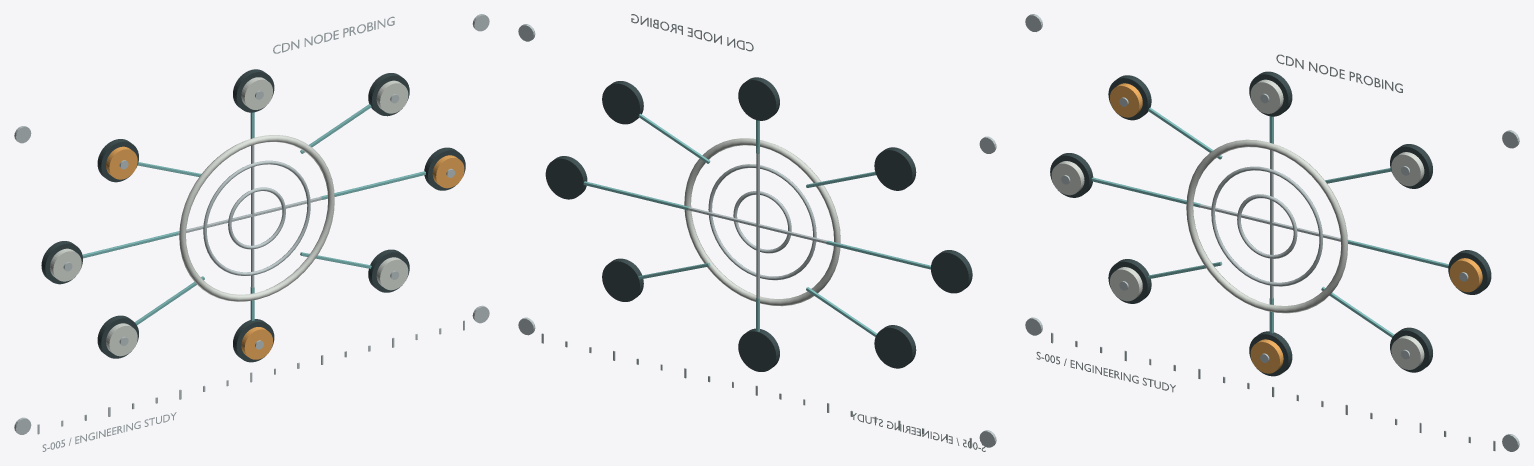
Rendered from cdn-probe.glb.
3 renders of one model, left to right at view 1: azimuth 30°, elevation 25°; view 2: azimuth 150°, elevation 25°; view 3: azimuth 330°, elevation 25°, orthographic. The views are drawn at different scales.
Parts seen in each view (by area): view 1: optical-lenses__Project_Silver.016, optical-core__Project_Graphite.014, optical-core__Project_Ceramic.014, optical-lenses__Project_Ceramic.002, optical-lenses__Project_Trace.013, optical-core__Project_Amber.015, optical-core__Project_Silver.010; view 2: optical-core__Project_Graphite.014, optical-lenses__Project_Silver.016, optical-lenses__Project_Ceramic.002, optical-lenses__Project_Trace.013; view 3: optical-lenses__Project_Silver.016, optical-core__Project_Graphite.014, optical-core__Project_Ceramic.014, optical-lenses__Project_Ceramic.002, optical-lenses__Project_Trace.013, optical-core__Project_Amber.015, optical-core__Project_Silver.010.
Boxes of the visible parts, bbox=[...] form: optical-lenses__Project_Silver.016: bbox=[14, 14, 489, 451]; optical-core__Project_Graphite.014: bbox=[41, 69, 465, 362]; optical-core__Project_Ceramic.014: bbox=[50, 77, 408, 356]; optical-lenses__Project_Ceramic.002: bbox=[179, 135, 334, 301]; optical-lenses__Project_Trace.013: bbox=[82, 104, 425, 324]; optical-core__Project_Amber.015: bbox=[106, 146, 464, 359]; optical-core__Project_Silver.010: bbox=[63, 90, 455, 349]; optical-core__Project_Graphite.014: bbox=[545, 77, 972, 371]; optical-lenses__Project_Silver.016: bbox=[518, 14, 996, 451]; optical-lenses__Project_Ceramic.002: bbox=[684, 138, 840, 306]; optical-lenses__Project_Trace.013: bbox=[583, 113, 930, 336]; optical-lenses__Project_Silver.016: bbox=[1025, 14, 1519, 451]; optical-core__Project_Graphite.014: bbox=[1050, 71, 1491, 376]; optical-core__Project_Ceramic.014: bbox=[1051, 79, 1424, 369]; optical-lenses__Project_Ceramic.002: bbox=[1186, 139, 1347, 313]; optical-lenses__Project_Trace.013: bbox=[1091, 107, 1448, 337]; optical-core__Project_Amber.015: bbox=[1109, 83, 1482, 373]; optical-core__Project_Silver.010: bbox=[1061, 93, 1468, 362].
Size of the model in its own units: 4.01 by 2.83 by 0.1417.
